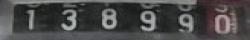digits: (60, 8, 77, 30), (138, 10, 156, 30), (100, 8, 118, 28), (176, 12, 194, 32), (25, 7, 38, 33), (214, 13, 230, 32)
